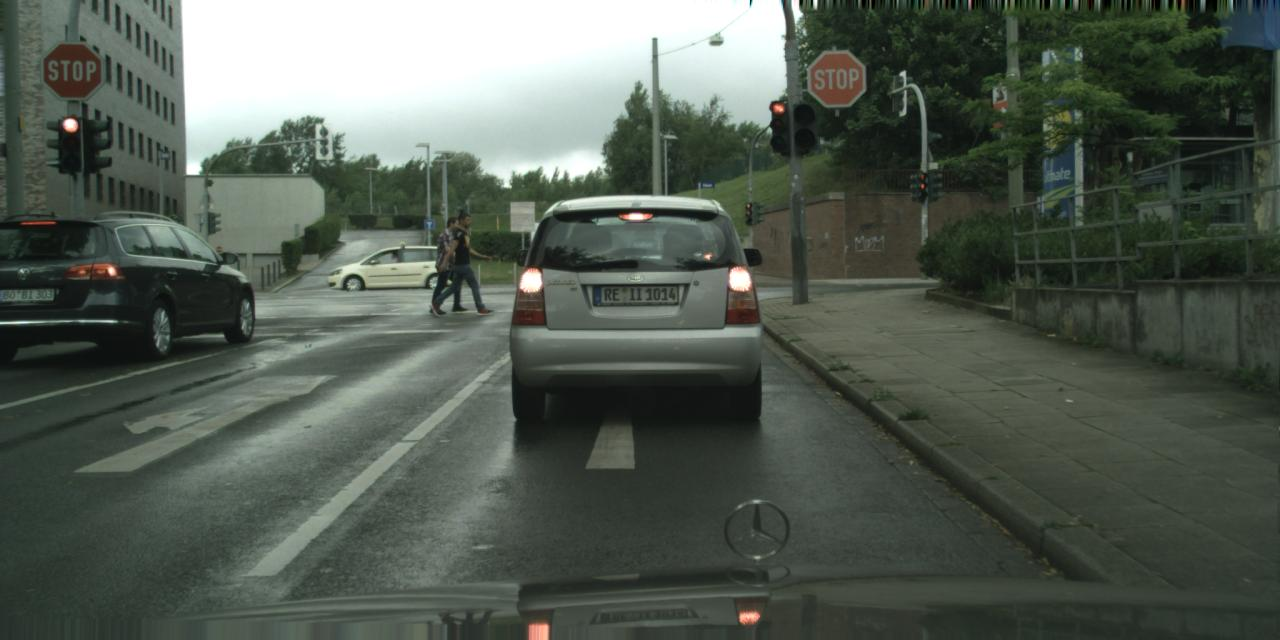ped: (442, 212, 484, 315), (430, 216, 470, 314)
